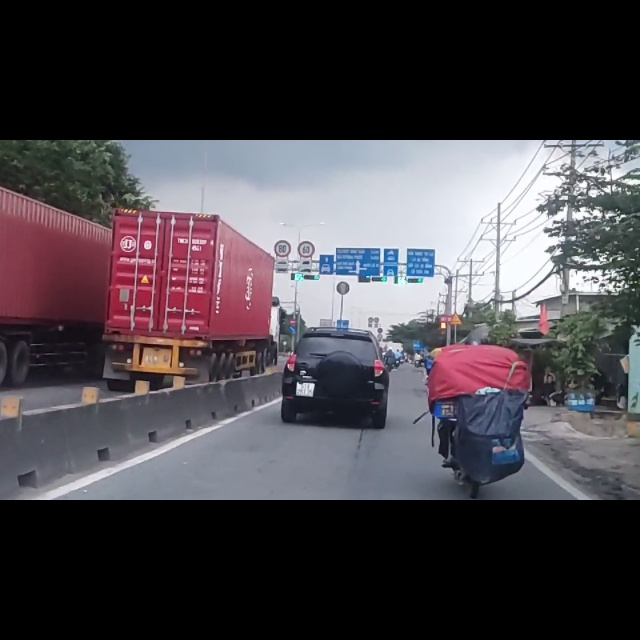bien_hieu_lenh: (297, 178, 316, 211), (274, 178, 291, 207), (449, 306, 463, 328), (289, 316, 297, 329), (289, 331, 296, 343)
